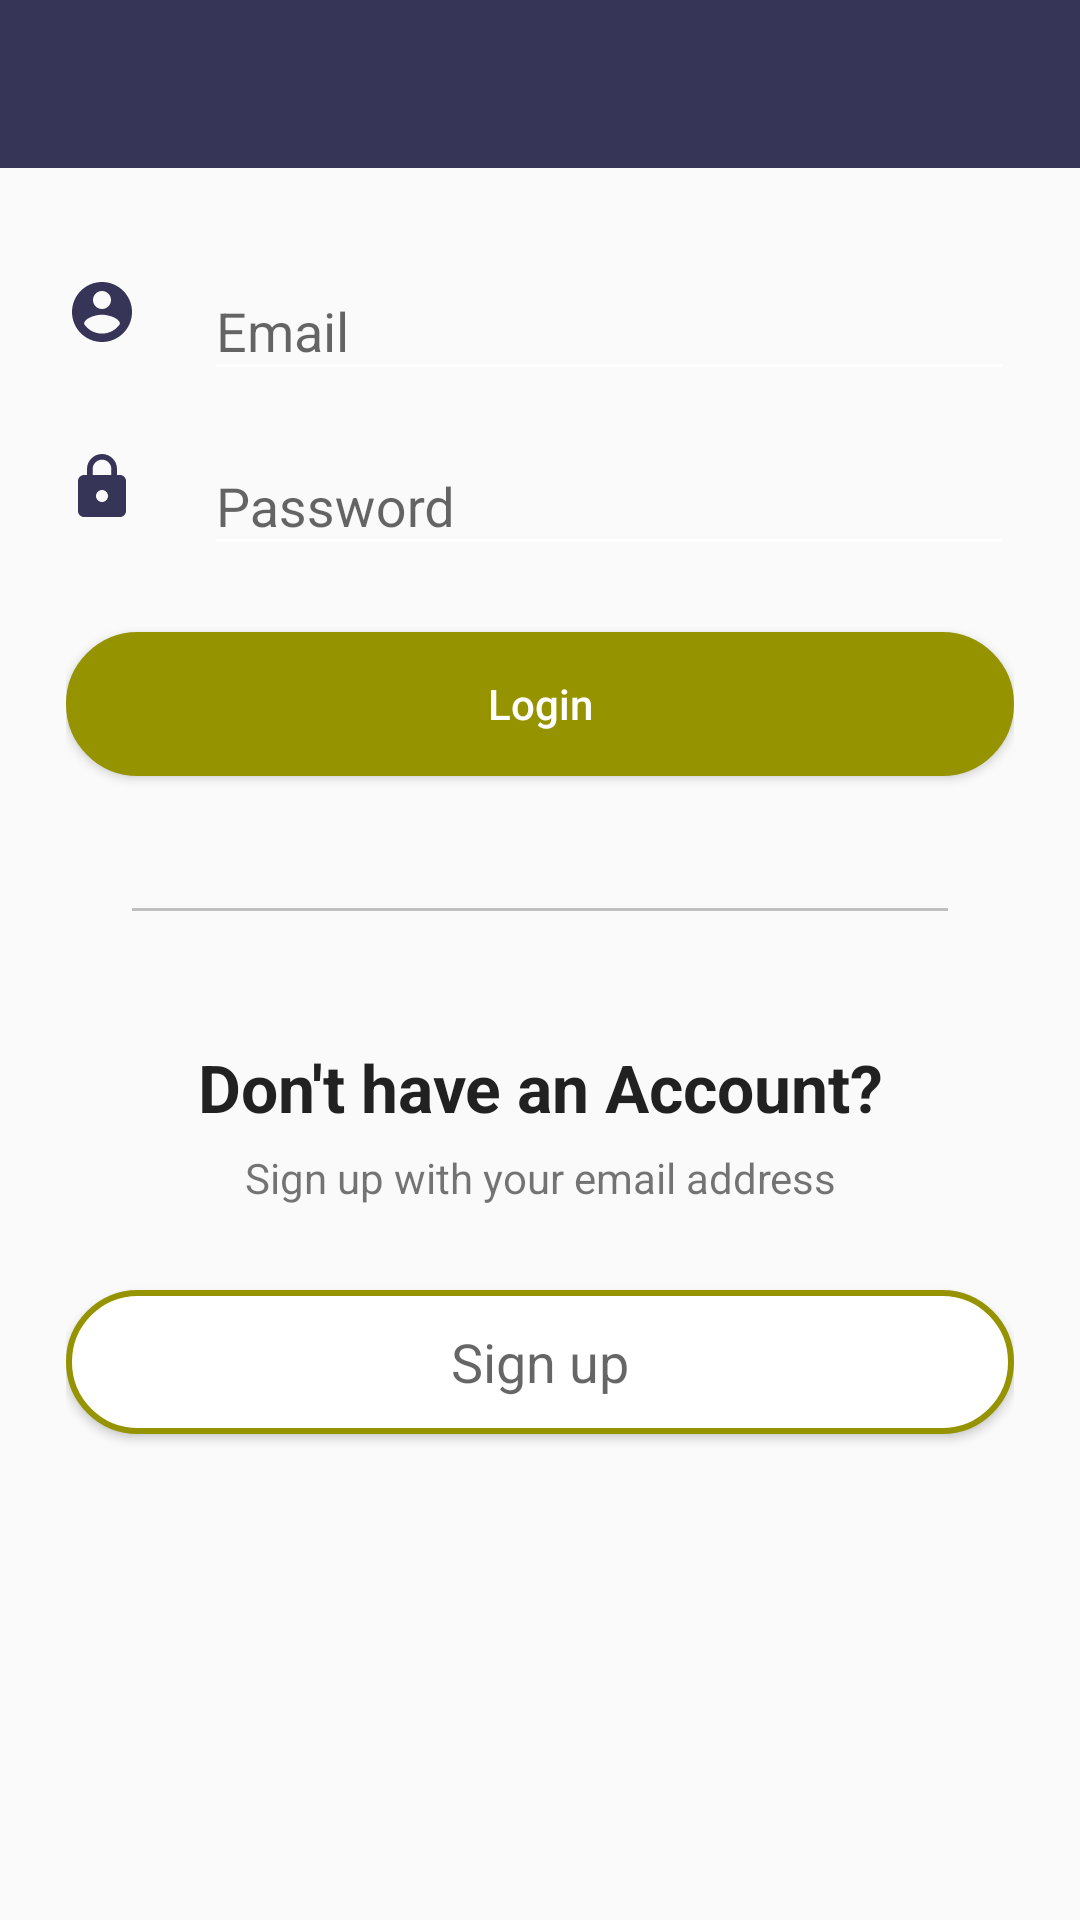

Where icons sit on this 1080 × 1920 app screen, as box=[x1, y1, x2, y2]:
lock: box=[78, 454, 126, 517]
user: box=[72, 282, 132, 342]
